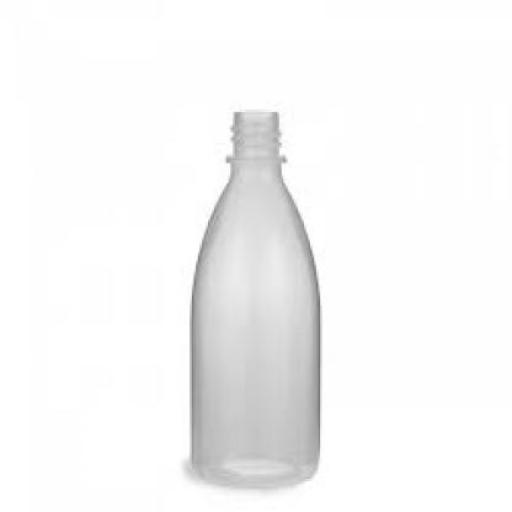glass: (190, 106, 318, 487)
